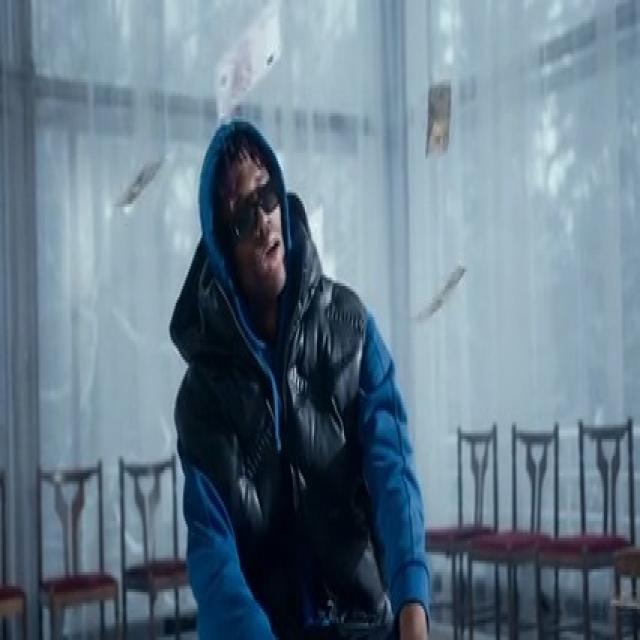Jacket_Wearer: (177, 262, 412, 640)
Person: (180, 122, 413, 640)
